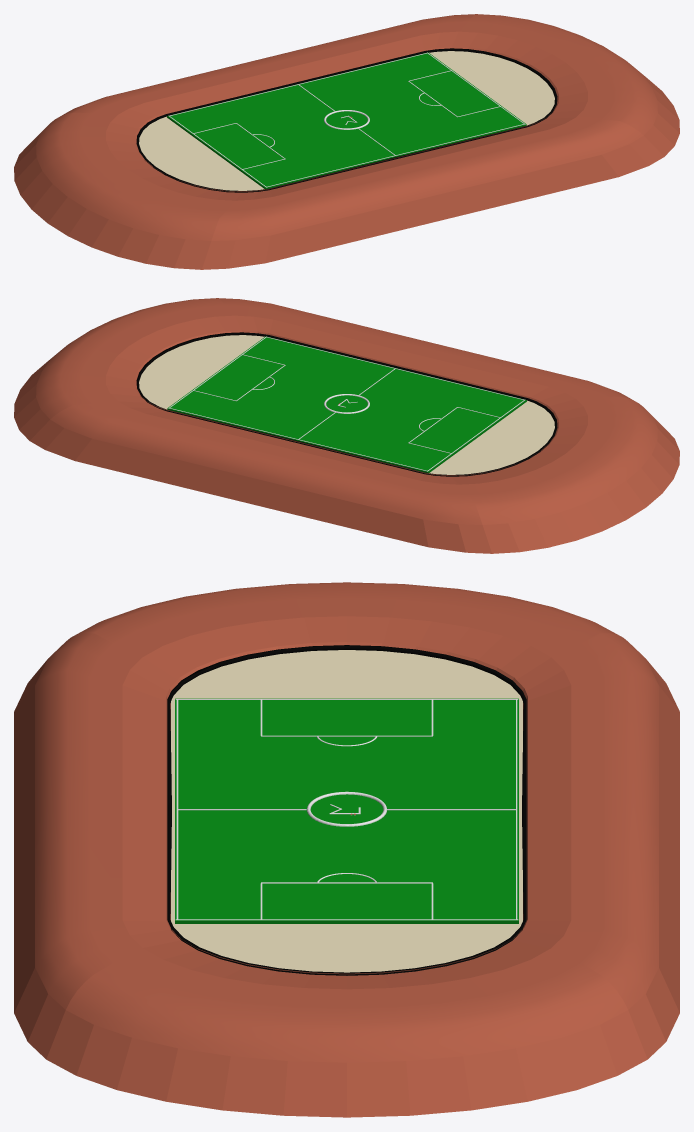
The model's file is mainField.fbx.
The picture shows the model from 3 angles, top to bottom: view 1: azimuth 30°, elevation 25°; view 2: azimuth 150°, elevation 25°; view 3: azimuth 270°, elevation 25°; orthographic projection. The views are drawn at different scales.
Visible parts, largest first — view 1: rect; view 2: rect; view 3: rect.
Part boxes in pixels (x1,y1,x2,y2): rect: (14, 14, 679, 269); rect: (14, 298, 679, 553); rect: (14, 582, 679, 1117).
Size of the model in its own units: 33105 by 1810 by 18268.
